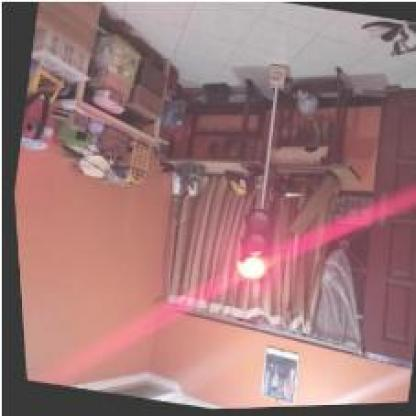red: (229, 209, 273, 286)
